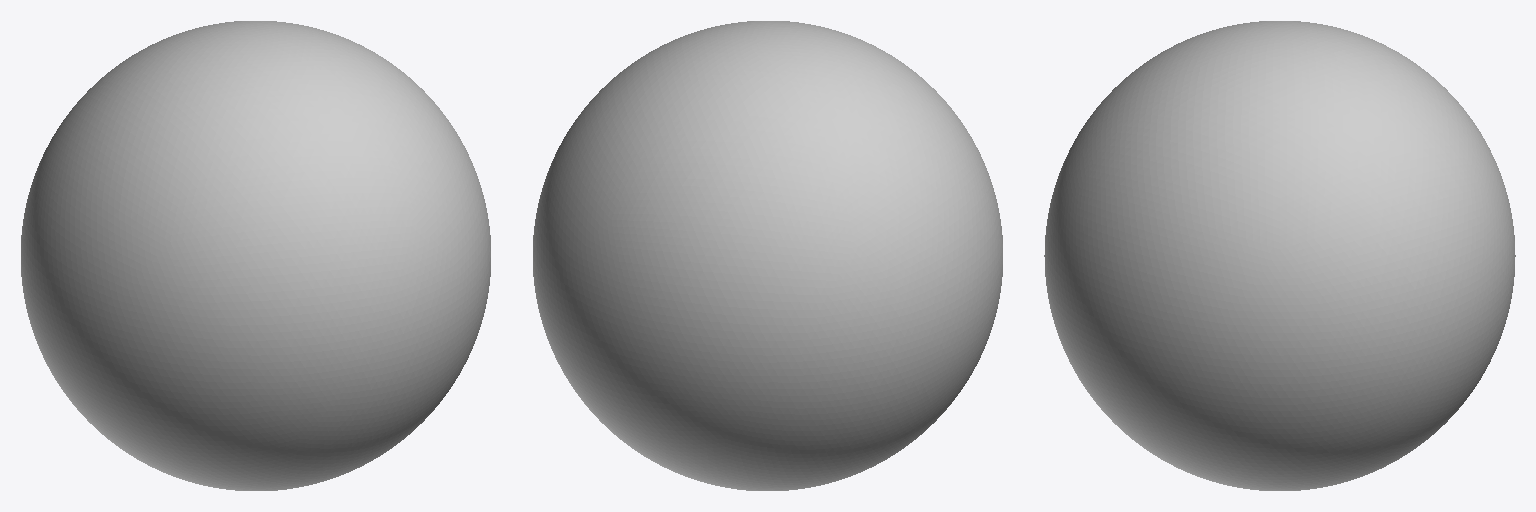
The model's file is synthetic_150.obj.
The picture shows the model from 3 angles: view 1: azimuth 30°, elevation 25°; view 2: azimuth 150°, elevation 25°; view 3: azimuth 270°, elevation 25°; orthographic projection.
Parts seen in each view (by area): view 1: Icosphere; view 2: Icosphere; view 3: Icosphere.
Boxes of the visible parts, x1,y1,x2,y2 form: Icosphere: [21, 21, 490, 490]; Icosphere: [533, 21, 1002, 490]; Icosphere: [1044, 21, 1515, 490].
Bounding box in the file's own units: 300 × 300 × 300.